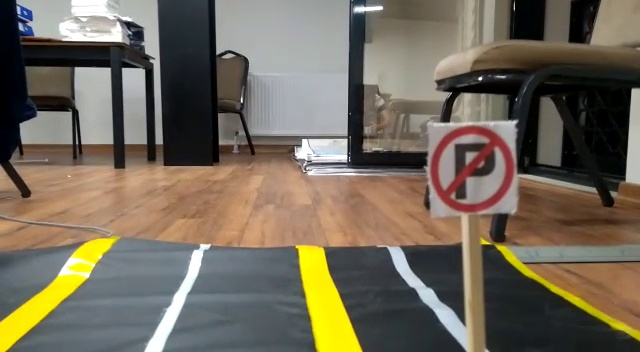park_yapilmaz: (425, 121, 520, 215)
